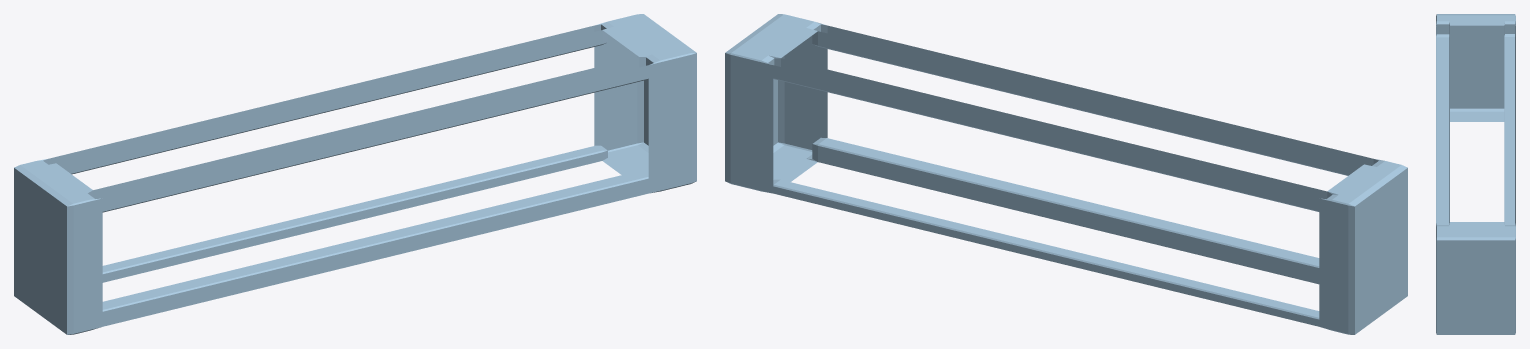
Rendered from Enemy Healt Bar 1.fbx.
3 views of the same model, side by side, from view 1: azimuth 30°, elevation 25°; view 2: azimuth 150°, elevation 25°; view 3: azimuth 270°, elevation 25° (orthographic). The views are drawn at different scales.
Parts seen in each view (by area): view 1: Enemy Healt Bar 1; view 2: Enemy Healt Bar 1; view 3: Enemy Healt Bar 1.
Boxes of the visible parts, x1=… form: Enemy Healt Bar 1: x1=14, y1=14, x2=696, y2=334; Enemy Healt Bar 1: x1=725, y1=14, x2=1407, y2=334; Enemy Healt Bar 1: x1=1436, y1=14, x2=1515, y2=334.
Bounding box in the file's own units: 169 × 33.65 × 25.24.
